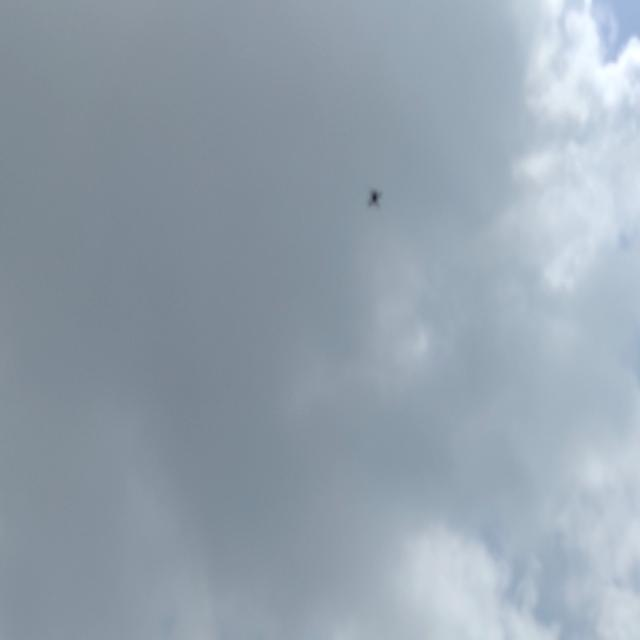drone: (363, 177, 386, 214)
